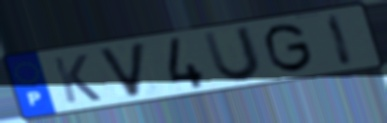4: (165, 34, 208, 91)
G: (262, 21, 316, 75)
I: (325, 12, 358, 69)
K: (50, 53, 105, 106)
U: (200, 24, 266, 84)
V: (94, 40, 148, 100)
